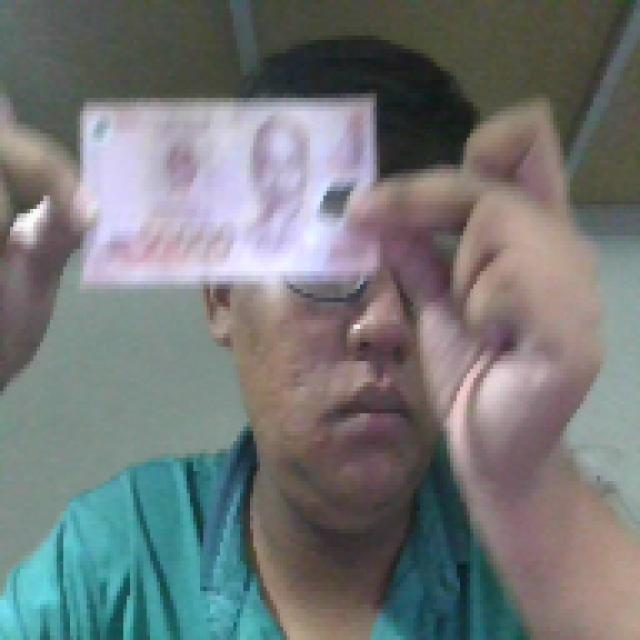50 000 VND: (70, 89, 380, 289)
